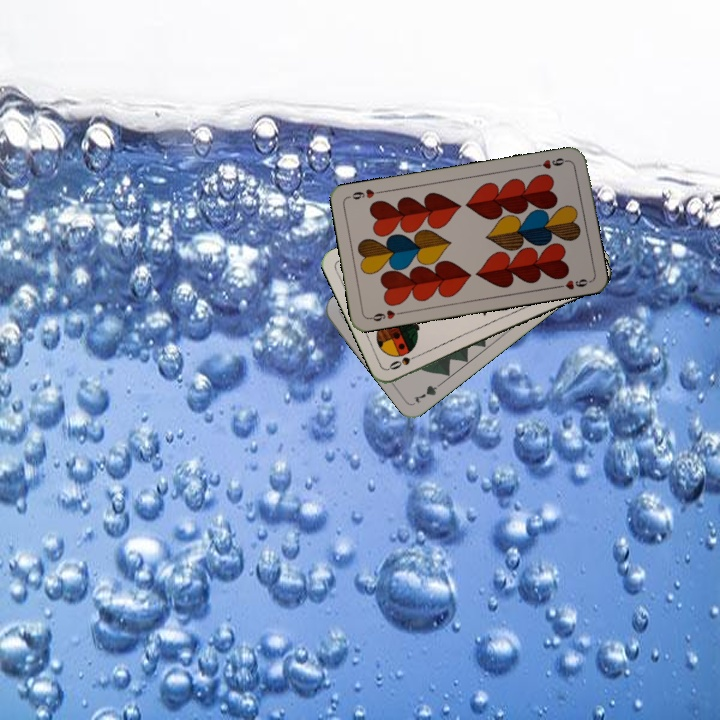G7: (410, 377, 447, 407)
H9: (365, 306, 406, 324), (531, 154, 571, 172)
SO: (385, 349, 424, 372)
